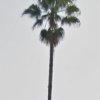Palm tree: (22, 3, 80, 100)
